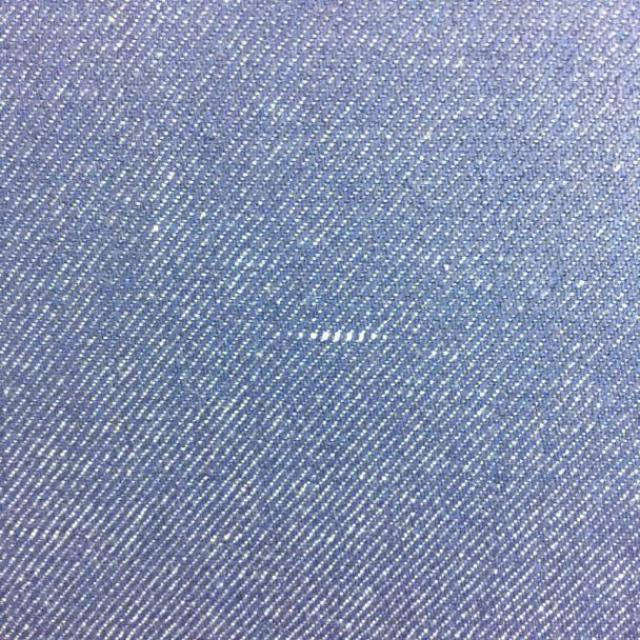Knot: (288, 329, 388, 344)
